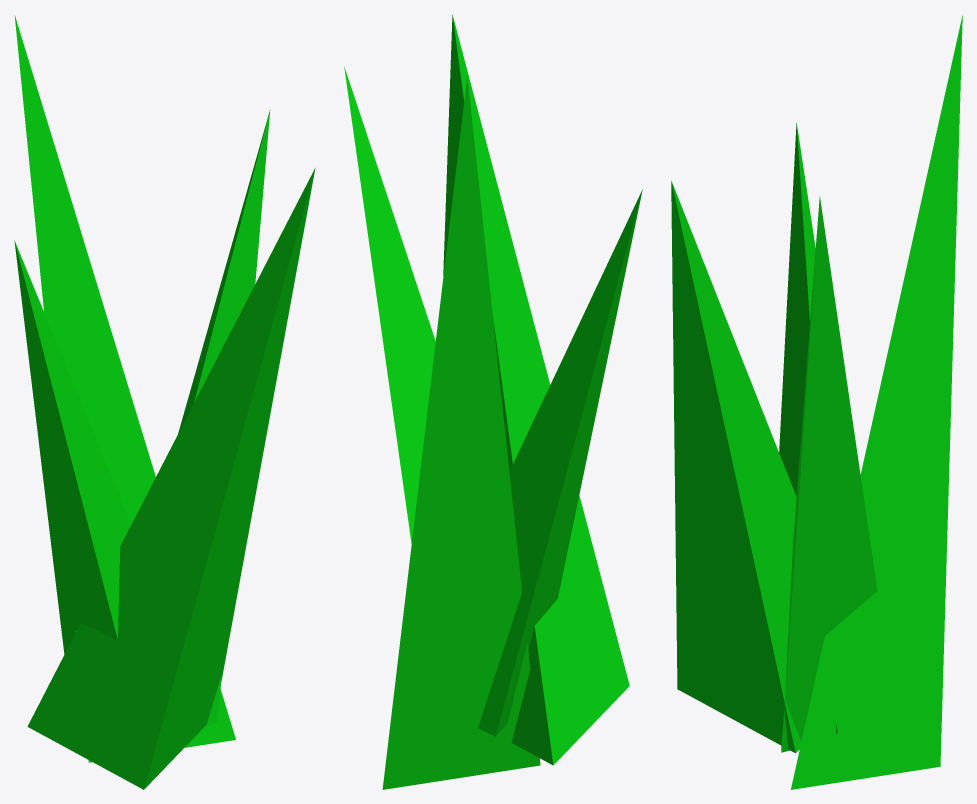
File: relva.fbx
The picture shows the model from 3 angles, left to right: view 1: azimuth 30°, elevation 25°; view 2: azimuth 150°, elevation 25°; view 3: azimuth 270°, elevation 25°; orthographic projection. The views are drawn at different scales.
Parts seen in each view (by area): view 1: Cone.002, Cone.003, Cone.001, Cone; view 2: Cone.003, Cone.002, Cone.001, Cone; view 3: Cone.003, Cone.002, Cone, Cone.001.
Boxes of the visible parts, left/top/right/bottom form: Cone.002: left=27, top=168, right=315, bottom=789; Cone.003: left=14, top=15, right=235, bottom=762; Cone.001: left=14, top=240, right=131, bottom=654; Cone: left=178, top=109, right=270, bottom=726; Cone.003: left=382, top=76, right=540, bottom=789; Cone.002: left=443, top=14, right=629, bottom=765; Cone.001: left=478, top=189, right=642, bottom=736; Cone: left=344, top=67, right=435, bottom=543; Cone.003: left=791, top=15, right=962, bottom=789; Cone.002: left=671, top=181, right=801, bottom=753; Cone: left=781, top=196, right=877, bottom=752; Cone.001: left=779, top=123, right=838, bottom=733.
Size of the model in its own units: 96.14 by 240 by 89.38.
